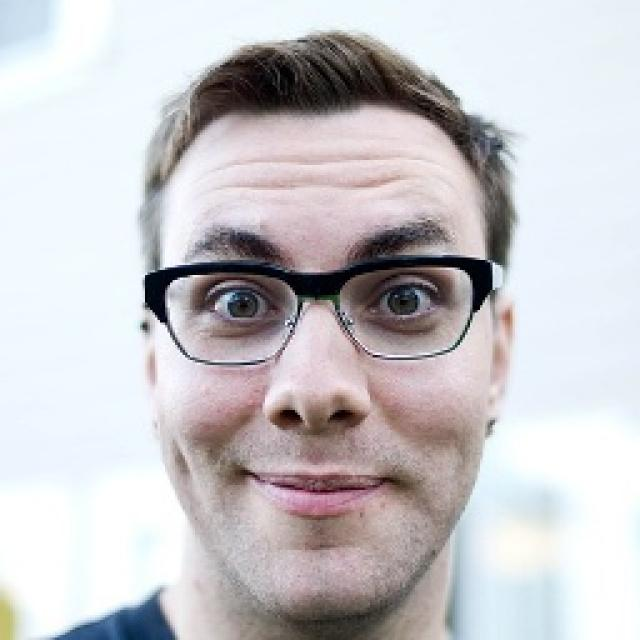glasses: (115, 252, 507, 384)
